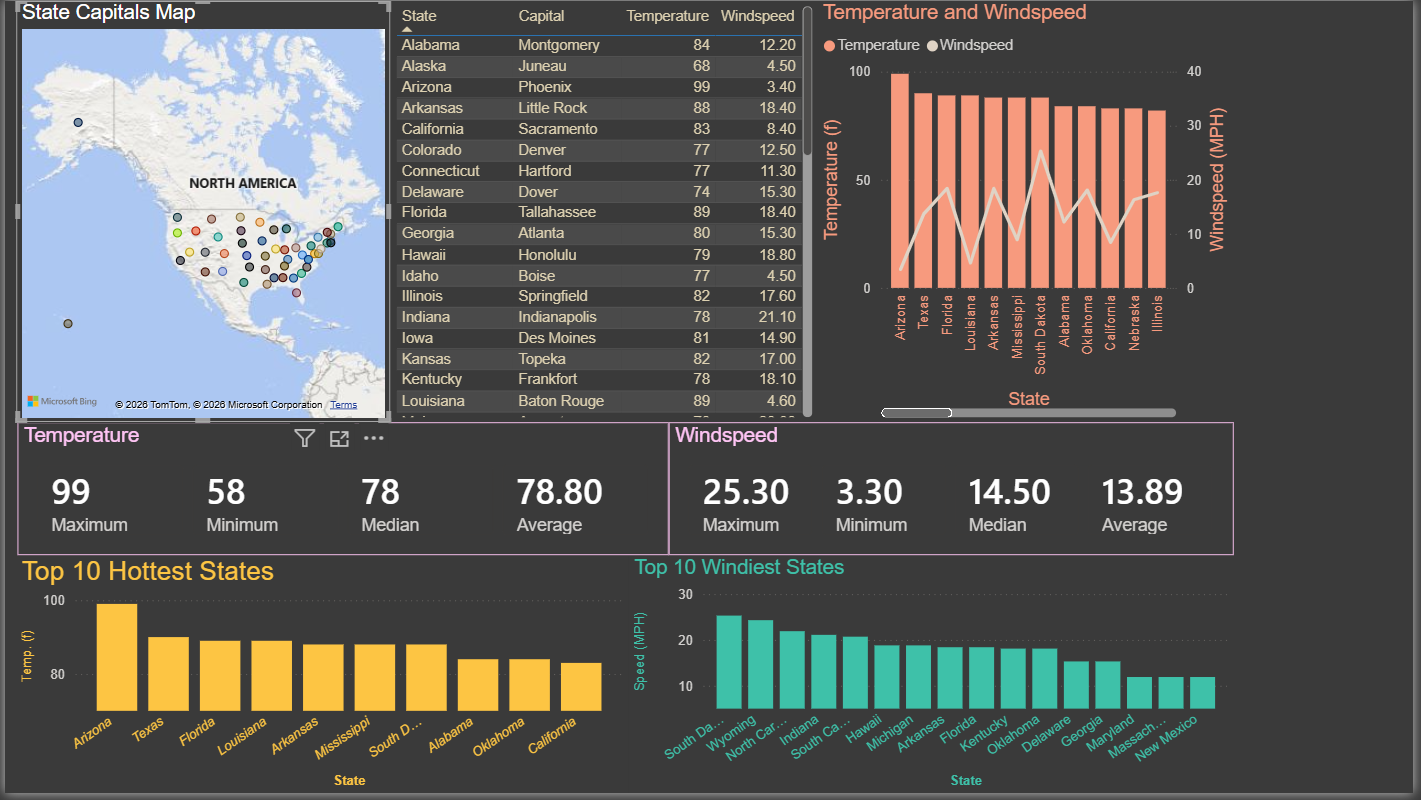

The page's visual inventory and layout, read from the dashboard file:
{"tool":"powerbi","page":{"name":"US State Capital Weather Analysis","canvas":[1280,720],"ordinal":0},"visuals":[{"type":"map","title":"State Capitals Map","fields":{"Category":["weather_api_data.state"],"Series":["weather_api_data.capital"]},"box":[10,0,340,383.3],"z":0},{"type":"tableEx","fields":{"Values":["weather_api_data.state","weather_api_data.capital","Sum(weather_api_data.temperature)","Sum(weather_api_data.windspeed)"]},"box":[350,0,388.9,383.3],"z":1000},{"type":"lineStackedColumnComboChart","title":"Temperature and Windspeed","fields":{"Category":["weather_api_data.state"],"Y":["Max(weather_api_data.Temperature)"],"Y2":["Max(weather_api_data.Windspeed)"]},"box":[738.9,0,377.8,383.3],"z":2000},{"type":"cardVisual","title":"Temperature","fields":{"Data":["Max(weather_api_data.Temperature)","Min(weather_api_data.Temperature)","Median(weather_api_data.Temperature)","Avg(weather_api_data.Temperature)"]},"box":[11.1,383.3,592.2,121.1],"z":3000},{"type":"cardVisual","title":"Windspeed","fields":{"Data":["Max(weather_api_data.Windspeed)","Min(weather_api_data.Windspeed)","Median(weather_api_data.Windspeed)","Avg(weather_api_data.Windspeed)"]},"box":[603.3,383.3,513.3,121.1],"z":4000},{"type":"columnChart","title":"Top 10 Hottest States","fields":{"Category":["weather_api_data.state"],"Y":["Sum(weather_api_data.temperature)"]},"box":[10,504.4,556.7,215.6],"z":5000},{"type":"columnChart","title":"Top 10 Windiest States","fields":{"Category":["weather_api_data.state"],"Y":["Sum(weather_api_data.windspeed)"]},"box":[566.7,504.4,550,215.6],"z":6000}]}

Visuals, with their boxes in screenshot pixels (x1, y1, x2, y2), scaled from the page's 1280x720 canvas onto the 1421x800 screenshot:
"State Capitals Map" map: Rect(11, 0, 389, 426)
tableEx - weather_api_data.state x weather_api_data.capital: Rect(389, 0, 820, 426)
"Temperature and Windspeed" lineStackedColumnComboChart: Rect(820, 0, 1240, 426)
"Temperature" cardVisual: Rect(12, 426, 670, 560)
"Windspeed" cardVisual: Rect(670, 426, 1240, 560)
"Top 10 Hottest States" columnChart: Rect(11, 560, 629, 799)
"Top 10 Windiest States" columnChart: Rect(629, 560, 1240, 799)
